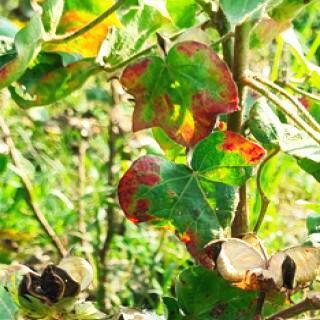blight: (114, 133, 277, 267), (108, 45, 246, 150)
